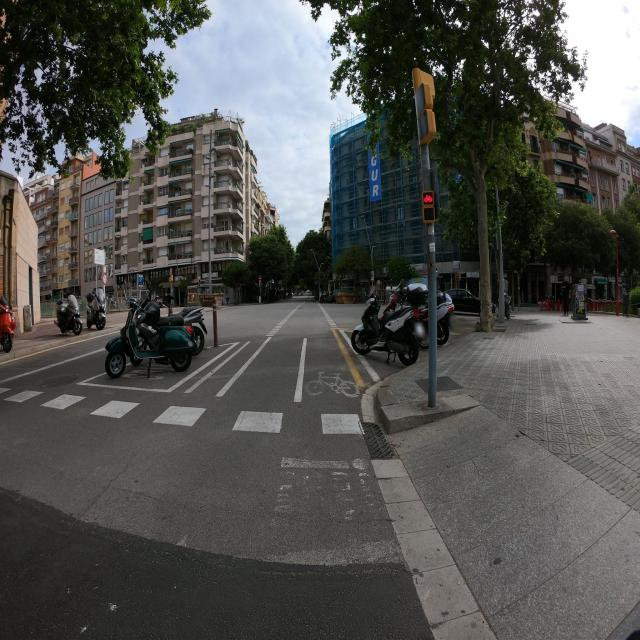forb_stopping: (170, 268, 173, 273)
